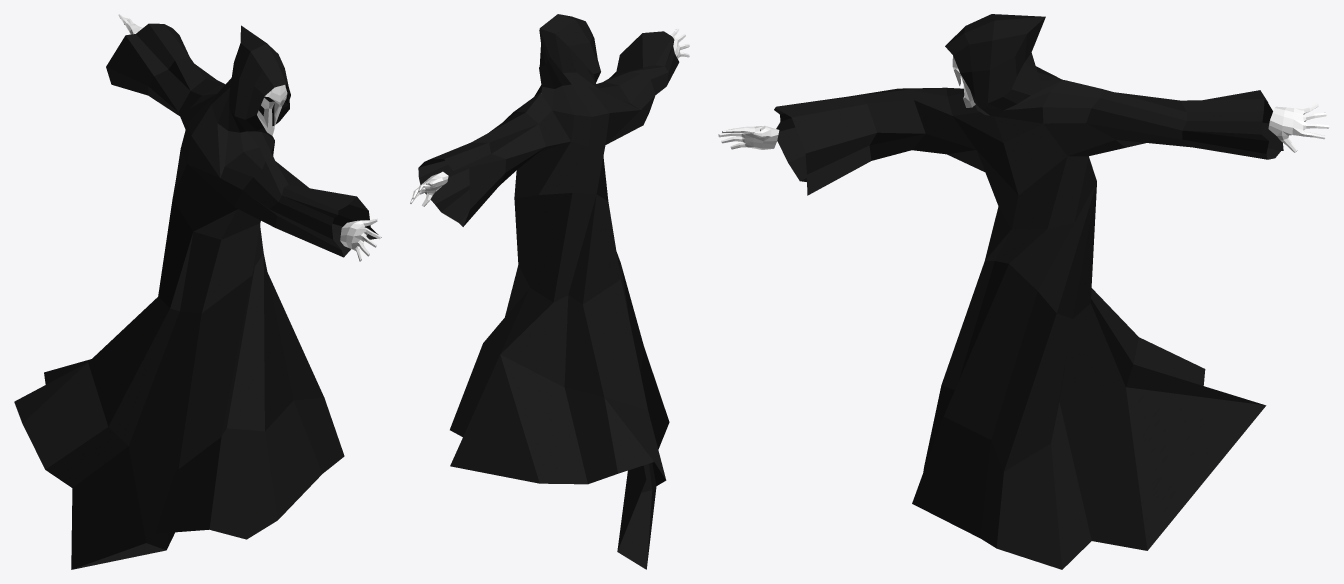
Rendered from ReaperAttack(38).obj.
3 renders of one model, left to right at view 1: azimuth 30°, elevation 25°; view 2: azimuth 150°, elevation 25°; view 3: azimuth 270°, elevation 25°, orthographic. The views are drawn at different scales.
Visible parts, largest first — view 1: Plane003; view 2: Plane003; view 3: Plane003.
Boxes of the visible parts, x1,y1,x2,y2 form: Plane003: [14, 14, 381, 569]; Plane003: [410, 14, 689, 569]; Plane003: [718, 14, 1329, 569].
Bounding box in the file's own units: 119 × 232 × 216.
